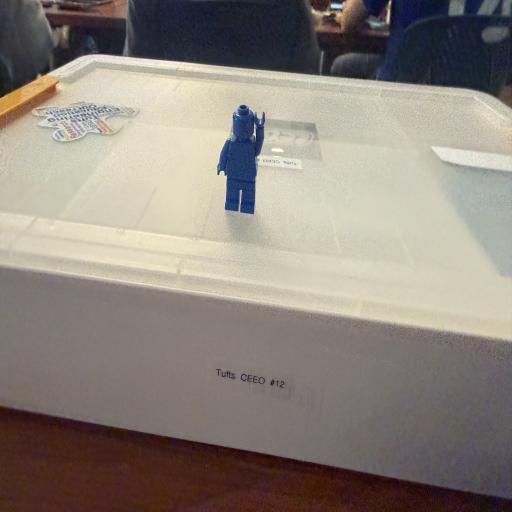Minifig: (217, 105, 265, 213)
